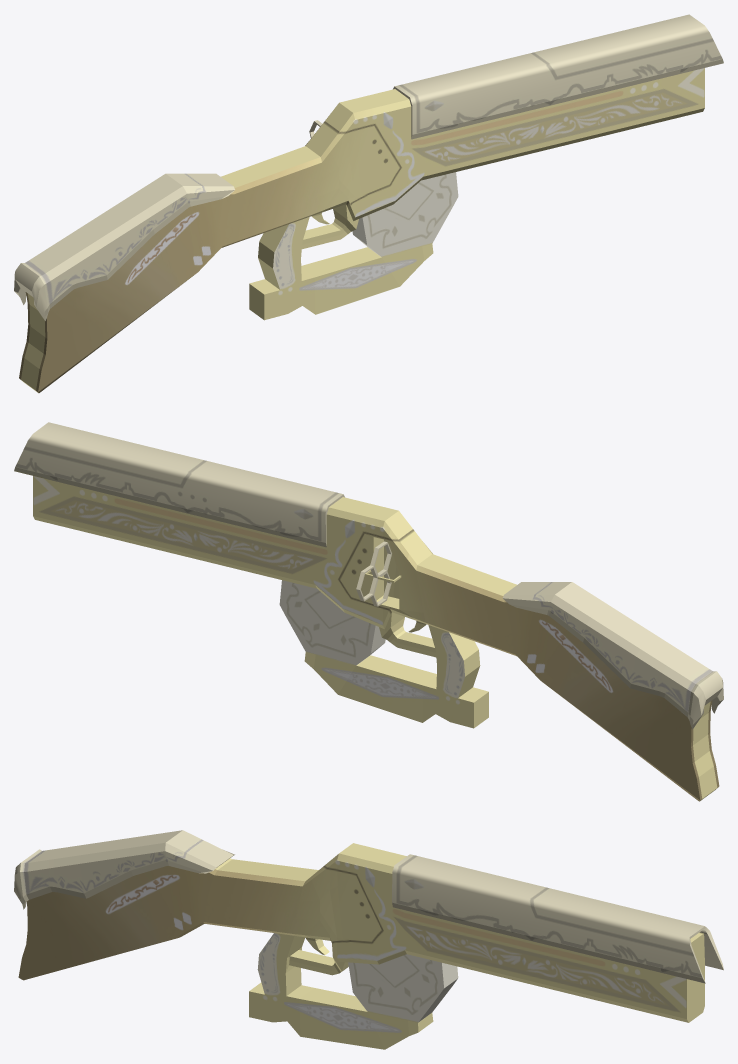
File: Defaultgun.fbx
3 views of the same model, one above another, from view 1: azimuth 30°, elevation 25°; view 2: azimuth 150°, elevation 25°; view 3: azimuth 330°, elevation 25° (orthographic).
Visible parts, largest first — view 1: Default; view 2: Default; view 3: Default.
Part boxes in pixels (x1,y1,x2,y2): Default: (14,14,723,393); Default: (14,422,723,801); Default: (14,830,723,1049).
Size of the model in its own units: 33.51 by 9.53 by 3.91.
